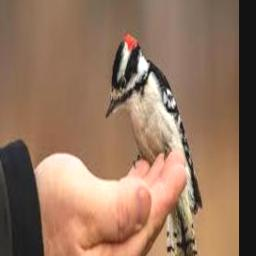Woodpecker: (105, 32, 202, 256)
